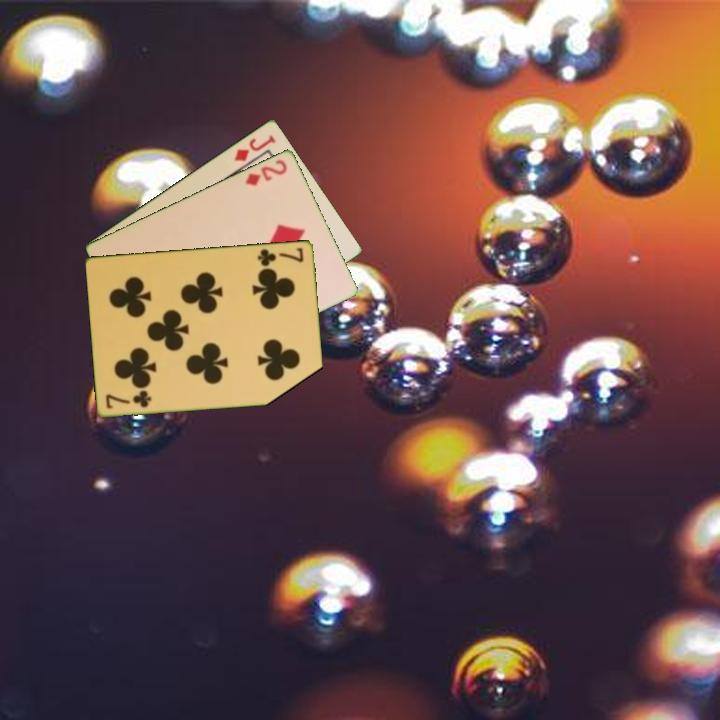2d: (242, 156, 290, 188)
7c: (254, 244, 307, 269), (103, 387, 154, 411)
Jd: (231, 131, 278, 164)
